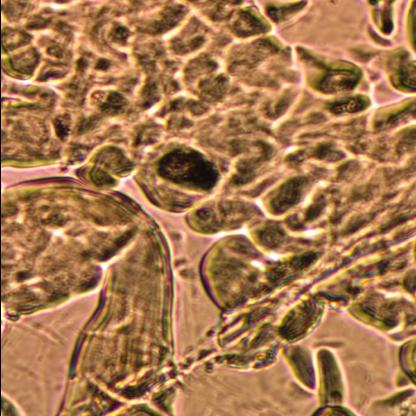Normal: (0, 0, 416, 364)
